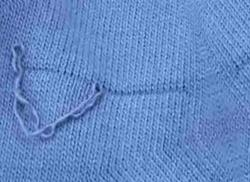snag: (65, 76, 110, 116)
